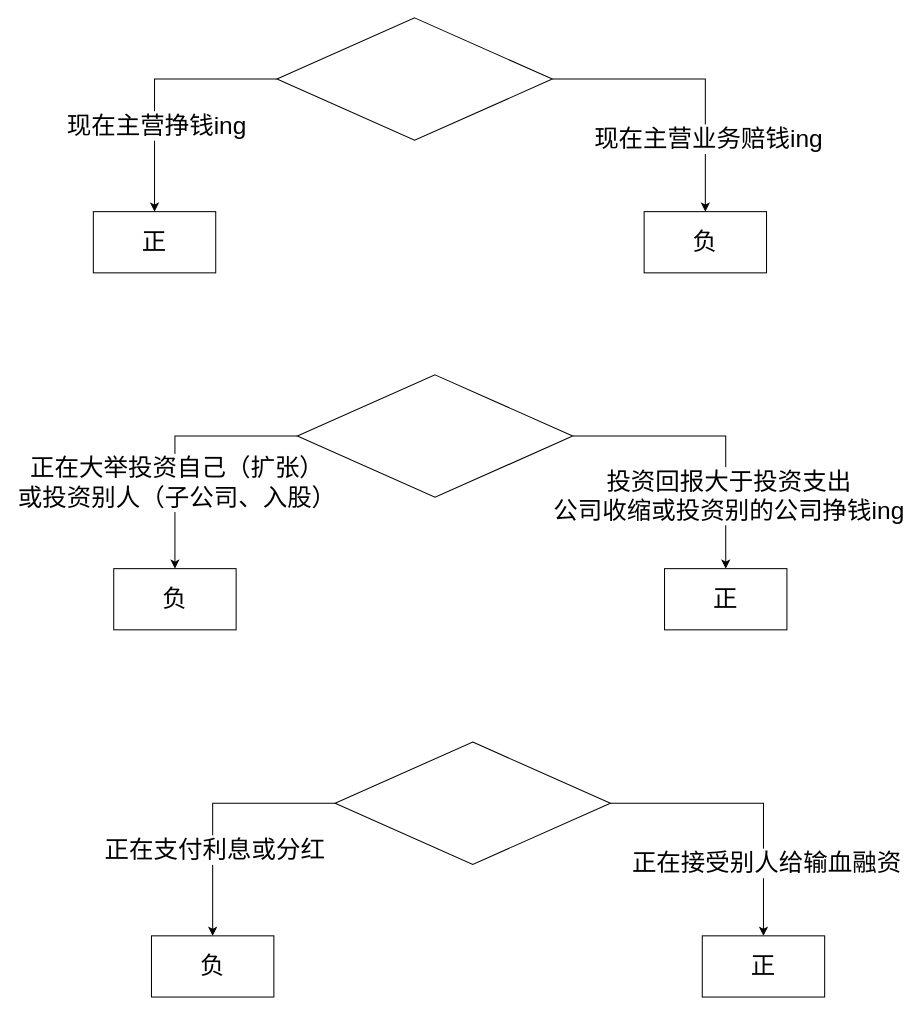
Image size: 921x1015. Some labels were removed from this diagram. Each missing label, with the centre of its shape:
"投资活动是否为正？" goes at (434,435).
"经营活动是否为正？" goes at (414,78).
"融资活动是否为正？" goes at (472,802).
